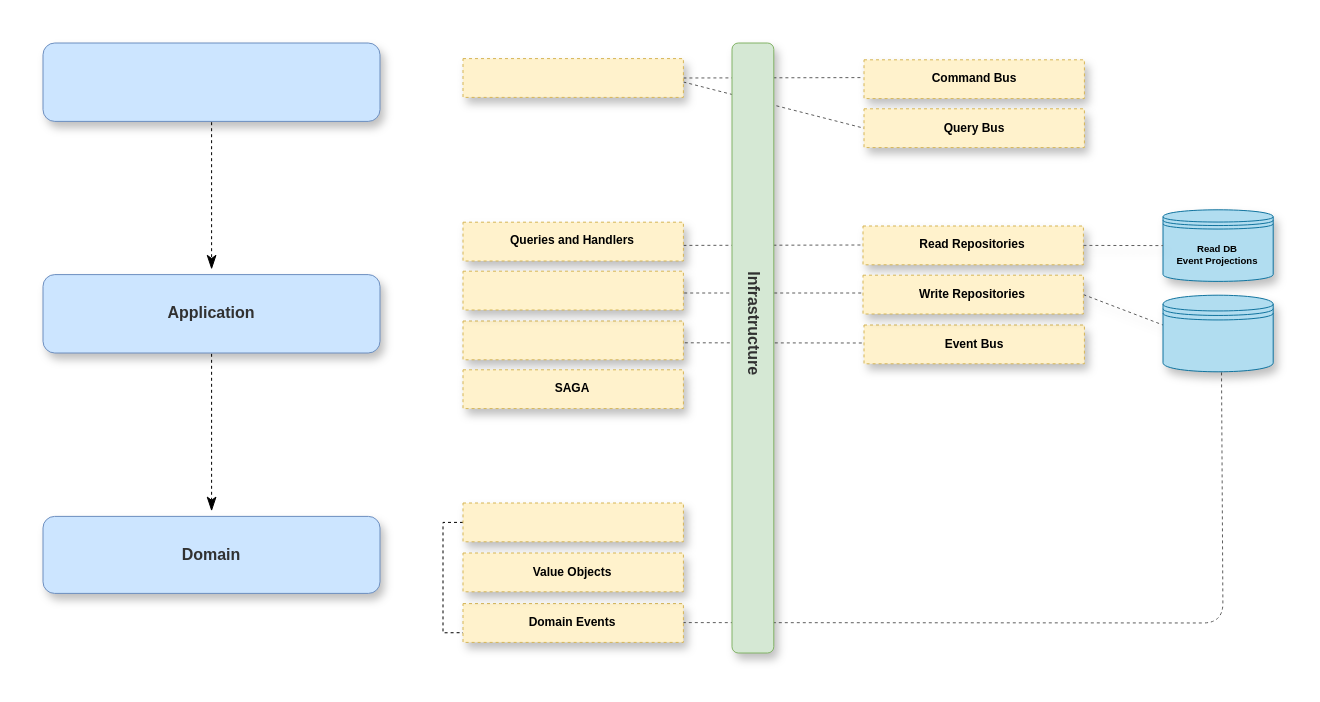
The diagram is 1320 pixels wide and 702 high, and some of its shapes have lost their labels. The centre of each missing label's shape, as x and y in pixels:
"Aggregate" goes at point (574, 524).
"Commands and Handlers" goes at point (574, 293).
"Endpoints" goes at point (574, 80).
"Integration Events" goes at point (574, 342).
"RESTful API" goes at point (213, 84).
"Write DB Event Store" goes at point (1219, 335).
